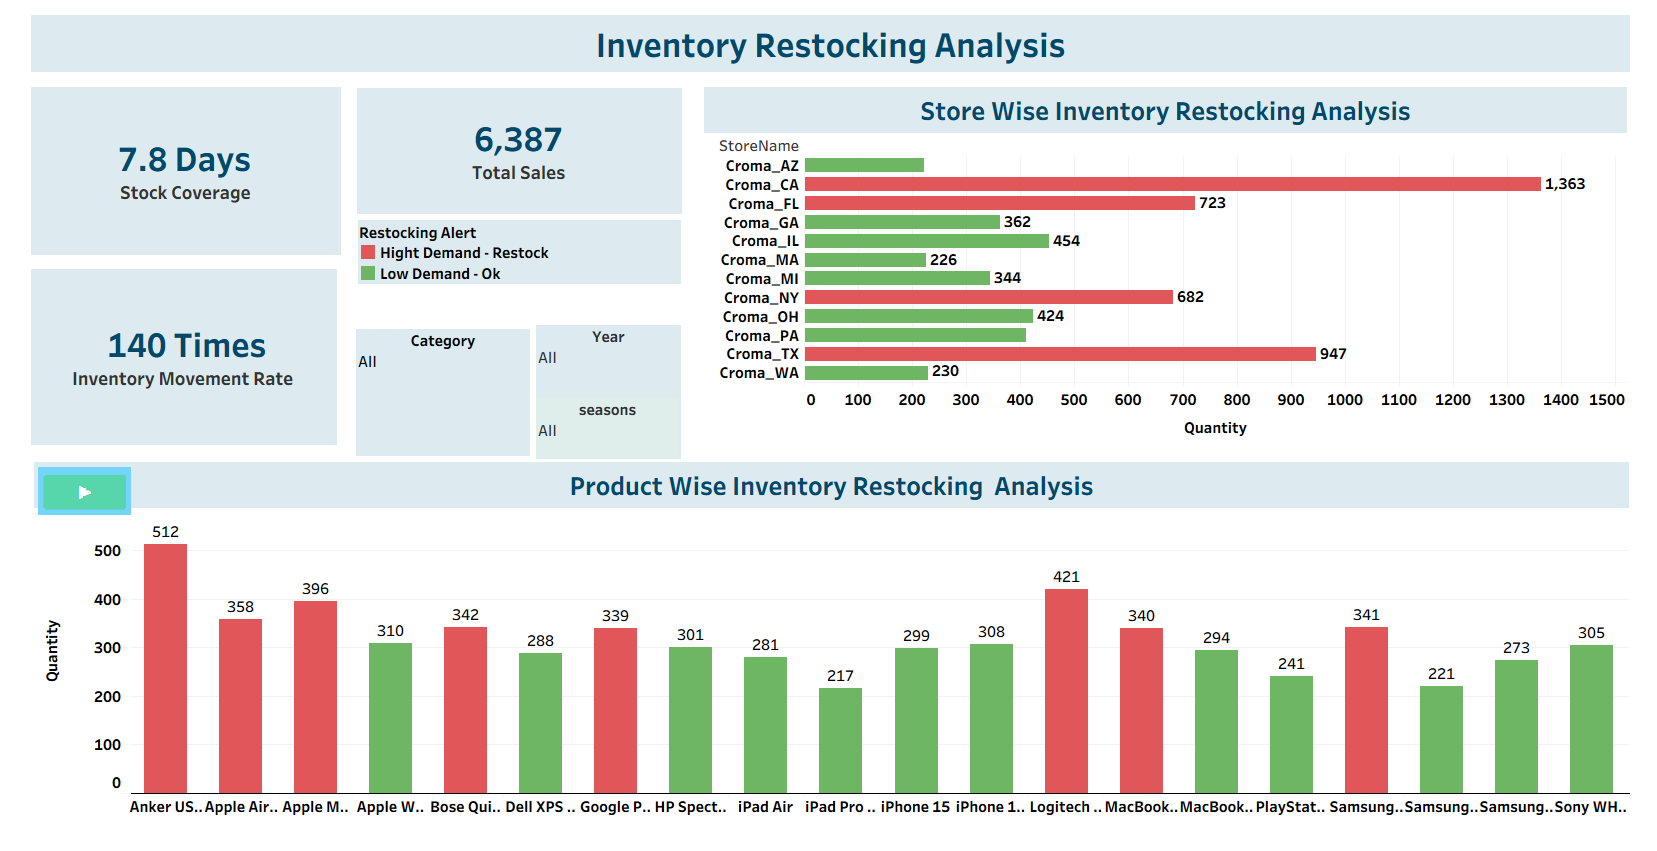

What the dashboard file says about the page in this screenshot:
{"tool":"tableau","page":{"name":"Dashboard 5","canvas":[1000,1000],"units":"permille","ordinal":4},"visuals":[{"type":"image","param":"Image/Screenshot 2026-05-25 165639.png","box":[0.6,5,999.4,993.8]},{"type":"worksheet","title":"Sheet 34","mark":"Automatic","box":[19,17.4,964.9,67]},{"type":"worksheet","title":"Sheet 5-1","mark":"Automatic","box":[19,84.4,186.2,213.4]},{"type":"worksheet","title":"Sheet 5-3","mark":"Automatic","box":[215.7,85.6,195.4,165]},{"type":"worksheet","title":"new1","mark":"Automatic","rows":["StoreName"],"cols":["Quantity"],"box":[425.2,101.7,557.3,420.6]},{"type":"legend","title":"new1","param":"[federated.1gkqmtb0ybhmqn11lutji0awsm6i (copy 2)].[usr:Calculation_0942836610592","box":[216.3,258.1,194.5,121.6]},{"type":"worksheet","title":"Sheet 5-2","mark":"Automatic","box":[19,299,184.1,223.3]},{"type":"filter","title":"Sheet 5-2","param":"[federated.1gkqmtb0ybhmqn11lutji0awsm6i (copy 2)].[yr:Date:ok]","box":[323.6,382.1,87.3,157.6]},{"type":"filter","title":"new1","param":"[federated.1gkqmtb0ybhmqn11lutji0awsm6i (copy 2)].[none:Category:nk]","box":[215.1,387.1,104.7,148.9]},{"type":"filter","title":"new2","param":"[federated.1gkqmtb0ybhmqn11lutji0awsm6i (copy 2)].[none:Calculation_109264296418","box":[323.6,467.7,86,70.7]},{"type":"worksheet","title":"new2","mark":"Bar","rows":["Quantity"],"cols":["ProductName"],"box":[20.4,543.4,962.8,435.5]},{"type":"dashboard-object","param":"[com.tableau.extensions.filterbookmarks.sandboxed].[1.0.0].[https://extensions.t","box":[23.1,548.4,56.1,57.1]}]}

Visuals, with their boxes on the dashboard's canvas, which has no fixed pixel size, in thousandths of its width and height (x1, y1, x2, y2). These are canvas units, not pixel positions in the 1657x851 screenshot, which may show the page scaled, cropped or inside an application window:
image: [left=1, top=5, right=1000, bottom=999]
"Sheet 34" worksheet: [left=19, top=17, right=984, bottom=84]
"Sheet 5-1" worksheet: [left=19, top=84, right=205, bottom=298]
"Sheet 5-3" worksheet: [left=216, top=86, right=411, bottom=251]
"new1" worksheet: [left=425, top=102, right=982, bottom=522]
"new1" legend: [left=216, top=258, right=411, bottom=380]
"Sheet 5-2" worksheet: [left=19, top=299, right=203, bottom=522]
"Sheet 5-2" filter: [left=324, top=382, right=411, bottom=540]
"new1" filter: [left=215, top=387, right=320, bottom=536]
"new2" filter: [left=324, top=468, right=410, bottom=538]
"new2" worksheet (Bar marks): [left=20, top=543, right=983, bottom=979]
dashboard-object: [left=23, top=548, right=79, bottom=606]
